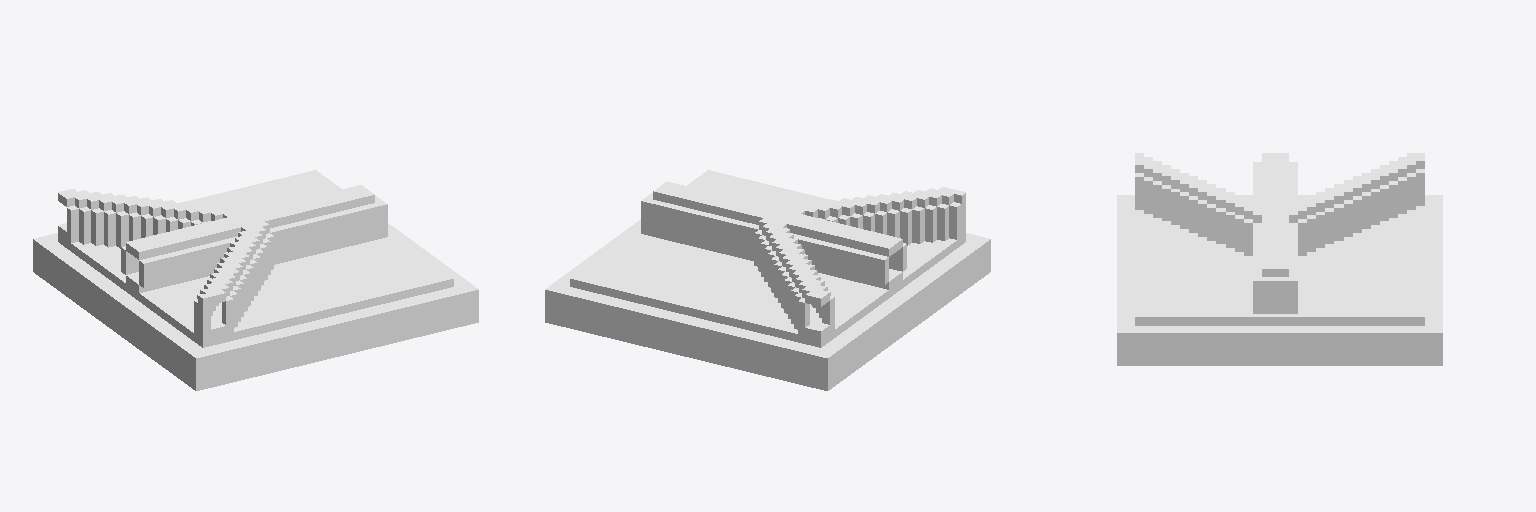
The model's file is branching-pathways.obj.
The picture shows the model from 3 angles: view 1: azimuth 30°, elevation 25°; view 2: azimuth 150°, elevation 25°; view 3: azimuth 270°, elevation 25°; orthographic projection.
Parts seen in each view (by area): view 1: mc-world__-50_0_62_to_-15_255_97; view 2: mc-world__-50_0_62_to_-15_255_97; view 3: mc-world__-50_0_62_to_-15_255_97.
Boxes of the visible parts, x1=… form: mc-world__-50_0_62_to_-15_255_97: x1=33, y1=170, x2=478, y2=390; mc-world__-50_0_62_to_-15_255_97: x1=545, y1=170, x2=990, y2=390; mc-world__-50_0_62_to_-15_255_97: x1=1117, y1=153, x2=1442, y2=365.
Size of the model in its own units: 36 by 10 by 36.